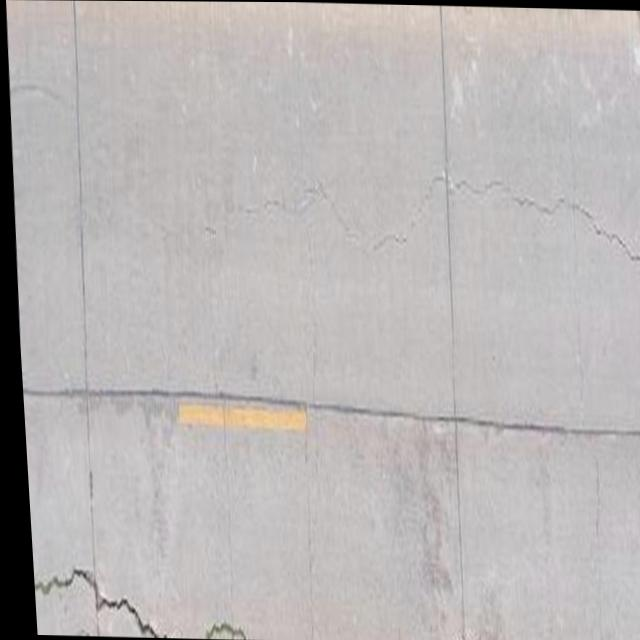Crack: (25, 529, 252, 639), (532, 179, 640, 279)
